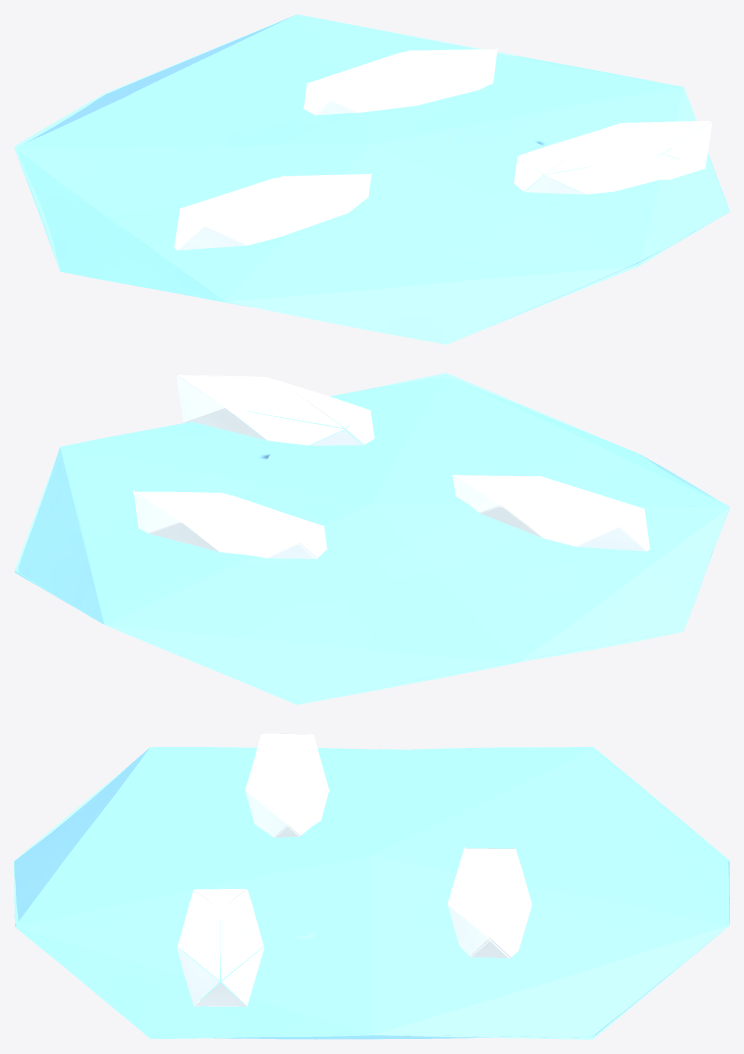
Rendered from fish_spot.glb.
The picture shows the model from 3 angles, top to bottom: view 1: azimuth 30°, elevation 25°; view 2: azimuth 150°, elevation 25°; view 3: azimuth 270°, elevation 25°; orthographic projection. The views are drawn at different scales.
Visible parts, largest first — view 1: Shoal; view 2: Shoal; view 3: Shoal.
Boxes of the visible parts, <box> form: Shoal: <box>14,14,729,344</box>; Shoal: <box>14,373,729,704</box>; Shoal: <box>14,733,729,1039</box>.
Size of the model in its own units: 0.8945 by 0.1403 by 0.8506.
